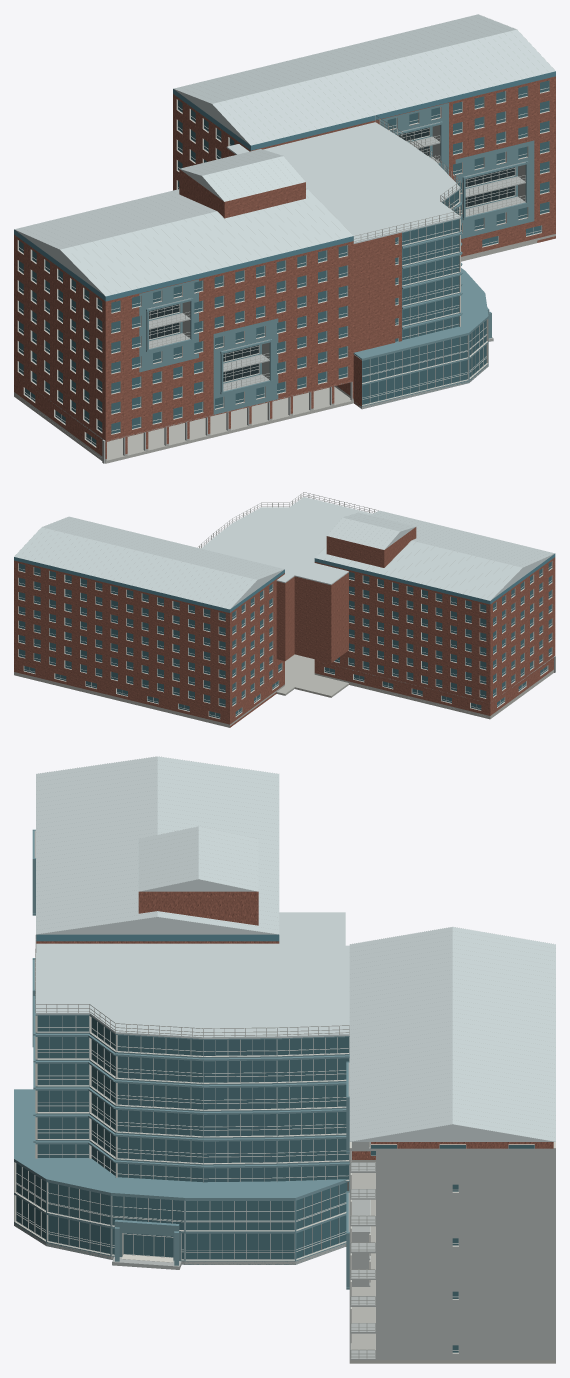
3 renders of one model, top to bottom at view 1: azimuth 30°, elevation 25°; view 2: azimuth 150°, elevation 25°; view 3: azimuth 270°, elevation 25°, orthographic. The views are drawn at different scales.
Visible parts, largest first — view 1: cheongyeon__classroomFacades (×8), cheongyeon__rightWingRoof, cheongyeon__leftWingRoof, cheongyeon__atriumFlatRoof, cheongyeon__windowAndDoorFrames, cheongyeon__lowCurvedAtrium (×2), cheongyeon__tallCurvedAtrium (×2), cheongyeon__recessedOpeningReveals, cheongyeon__leftWingNarrowAtriumCheek, cheongyeon__originalFootprintFoundation, cheongyeon__rearServiceRoof, cheongyeon__lowAtriumRoof (+8 smaller); view 2: cheongyeon__classroomFacades (×4), cheongyeon__rightWingRoof, cheongyeon__leftWingRoof, cheongyeon__atriumFlatRoof, cheongyeon__atriumUnseenBack, cheongyeon__windowAndDoorFrames, cheongyeon__recessedOpeningReveals, cheongyeon__originalFootprintFoundation, cheongyeon__rearServiceRoof, cheongyeon__rearRoofServiceBlock, cheongyeon__rail, cheongyeon__rightWingRoof__seams (+2 smaller); view 3: cheongyeon__tallCurvedAtrium (×2), cheongyeon__rightWingRoof, cheongyeon__rightConcreteStairEnd, cheongyeon__atriumFlatRoof, cheongyeon__leftWingRoof, cheongyeon__lowCurvedAtrium (×2), cheongyeon__windowAndDoorFrames, cheongyeon__lowAtriumRoof, cheongyeon__classroomFacades (×4), cheongyeon__rearServiceRoof, cheongyeon__atriumFloorSpandrels, cheongyeon__recessedOpeningReveals (+11 smaller).
Part boxes in pixels (x1=…): cheongyeon__classroomFacades (×8): x1=14, y1=71, x2=555, y2=460; cheongyeon__rightWingRoof: x1=174, y1=14, x2=555, y2=145; cheongyeon__leftWingRoof: x1=15, y1=188, x2=353, y2=296; cheongyeon__atriumFlatRoof: x1=226, y1=122, x2=460, y2=243; cheongyeon__windowAndDoorFrames: x1=18, y1=80, x2=549, y2=446; cheongyeon__lowCurvedAtrium (×2): x1=362, y1=317, x2=488, y2=407; cheongyeon__tallCurvedAtrium (×2): x1=402, y1=189, x2=460, y2=340; cheongyeon__recessedOpeningReveals: x1=17, y1=80, x2=549, y2=447; cheongyeon__leftWingNarrowAtriumCheek: x1=353, y1=232, x2=401, y2=352; cheongyeon__originalFootprintFoundation: x1=14, y1=240, x2=537, y2=463; cheongyeon__rearServiceRoof: x1=180, y1=149, x2=305, y2=201; cheongyeon__lowAtriumRoof: x1=353, y1=268, x2=488, y2=359; cheongyeon__classroomFacades (×4): x1=14, y1=553, x2=555, y2=727; cheongyeon__rightWingRoof: x1=14, y1=516, x2=284, y2=609; cheongyeon__leftWingRoof: x1=315, y1=510, x2=554, y2=600; cheongyeon__atriumFlatRoof: x1=201, y1=497, x2=371, y2=584; cheongyeon__atriumUnseenBack: x1=276, y1=572, x2=348, y2=662; cheongyeon__windowAndDoorFrames: x1=18, y1=561, x2=551, y2=718; cheongyeon__recessedOpeningReveals: x1=18, y1=561, x2=552, y2=718; cheongyeon__originalFootprintFoundation: x1=14, y1=654, x2=553, y2=727; cheongyeon__rearServiceRoof: x1=327, y1=512, x2=415, y2=549; cheongyeon__rearRoofServiceBlock: x1=326, y1=527, x2=416, y2=567; cheongyeon__rail: x1=197, y1=492, x2=378, y2=548; cheongyeon__rightWingRoof__seams: x1=15, y1=529, x2=254, y2=608; cheongyeon__tallCurvedAtrium (×2): x1=35, y1=1014, x2=349, y2=1182; cheongyeon__rightWingRoof: x1=349, y1=927, x2=555, y2=1141; cheongyeon__rightConcreteStairEnd: x1=349, y1=1148, x2=555, y2=1360; cheongyeon__atriumFlatRoof: x1=35, y1=912, x2=349, y2=1038; cheongyeon__leftWingRoof: x1=36, y1=756, x2=279, y2=934; cheongyeon__lowCurvedAtrium (×2): x1=14, y1=1160, x2=349, y2=1264; cheongyeon__windowAndDoorFrames: x1=15, y1=1015, x2=554, y2=1352; cheongyeon__lowAtriumRoof: x1=14, y1=1089, x2=347, y2=1199; cheongyeon__classroomFacades (×4): x1=32, y1=829, x2=553, y2=1289; cheongyeon__rearServiceRoof: x1=138, y1=826, x2=258, y2=891; cheongyeon__atriumFloorSpandrels: x1=33, y1=996, x2=349, y2=1167; cheongyeon__recessedOpeningReveals: x1=14, y1=1015, x2=555, y2=1353.
Bounding box in the file's own units: 94.48 × 32.43 × 58.67.
12 materials, 1 textured.
